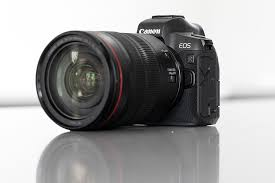camera: (37, 16, 219, 128)
